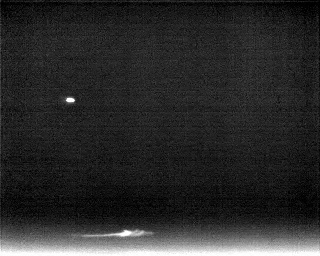AIRPLANE: (64, 95, 77, 106)
